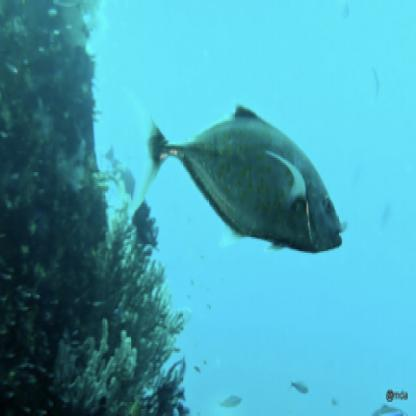Carangidae -Jacks-: (117, 87, 349, 264)
